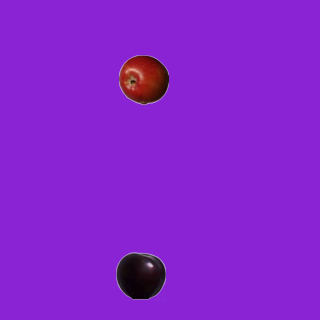Apple Braeburn: (118, 54, 168, 104)
Cherry Wax Black: (115, 250, 165, 300)
